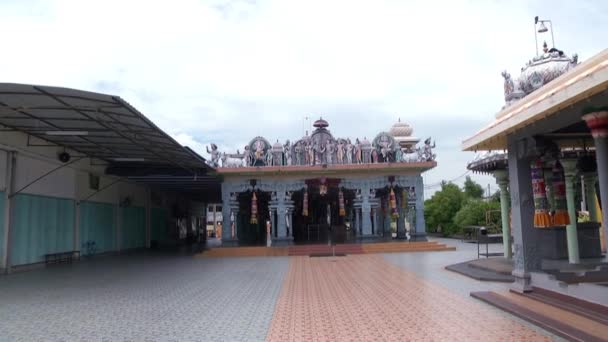Hindu Temple: (214, 121, 429, 238)
